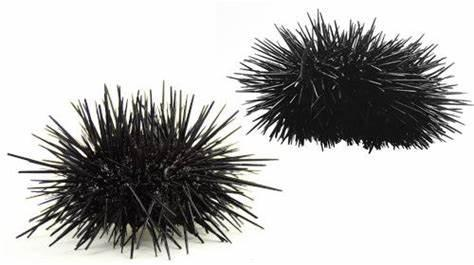urchin: (27, 90, 261, 250), (242, 18, 462, 150)
